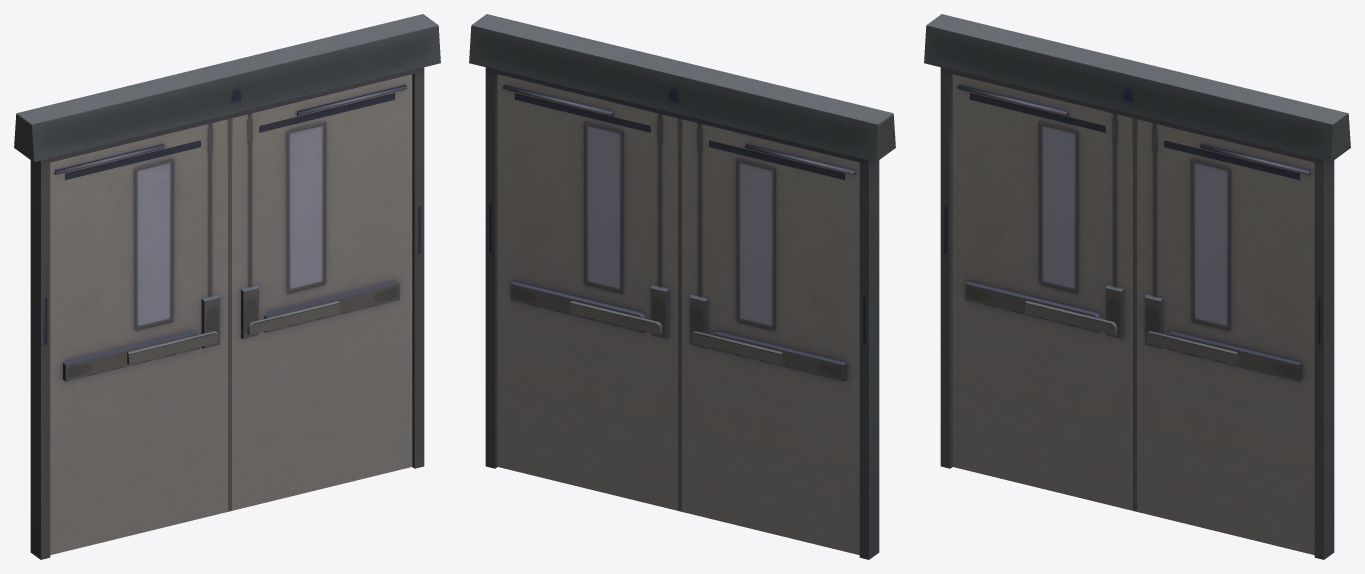
Rendered from puerta2.fbx.
3 renders of one model, left to right at view 1: azimuth 30°, elevation 25°; view 2: azimuth 150°, elevation 25°; view 3: azimuth 330°, elevation 25°, orthographic.
Parts seen in each view (by area): view 1: puerta_iz, puerta_dere, puertas_MARCO; view 2: puerta_iz, puerta_dere, puertas_MARCO; view 3: puerta_dere, puerta_iz, puertas_MARCO.
Boxes of the visible parts, x1,y1,x2,y2 form: puerta_iz: [230, 74, 412, 511]; puerta_dere: [50, 119, 229, 554]; puertas_MARCO: [14, 14, 440, 559]; puerta_iz: [497, 74, 679, 511]; puerta_dere: [680, 119, 859, 554]; puertas_MARCO: [469, 14, 895, 559]; puerta_dere: [952, 74, 1134, 511]; puerta_iz: [1135, 119, 1314, 554]; puertas_MARCO: [924, 14, 1350, 559].
Size of the model in its own units: 449 by 464 by 38.21.
1 material, 1 textured.
